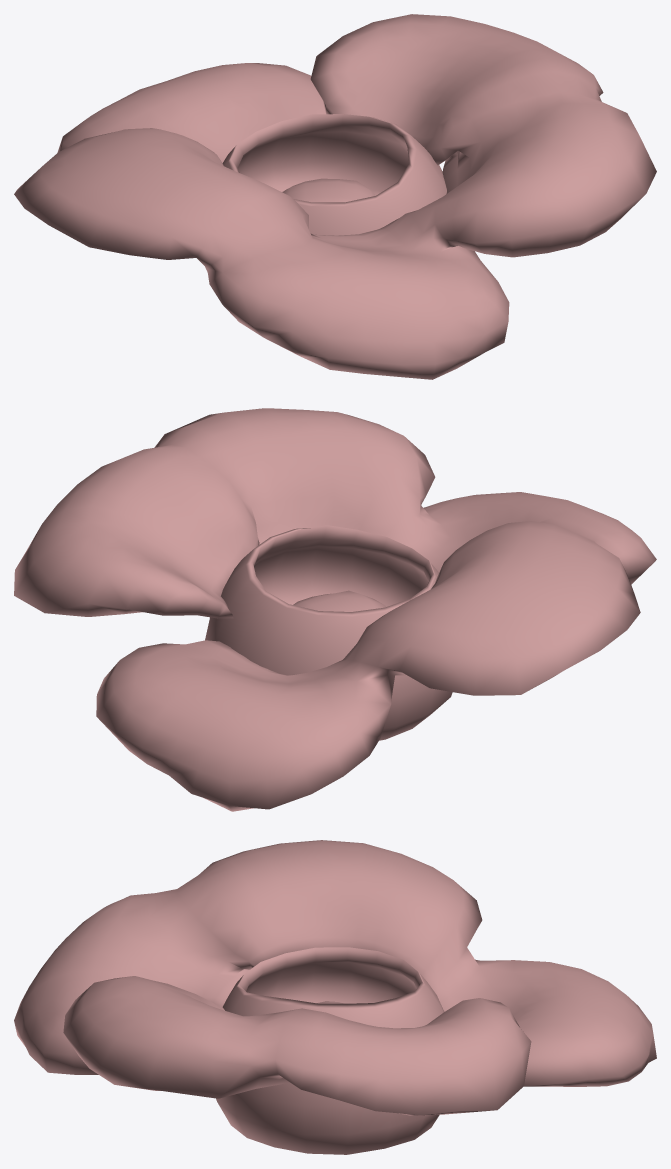
Rendered from Rafflesia.fbx.
3 renders of one model, top to bottom at view 1: azimuth 30°, elevation 25°; view 2: azimuth 150°, elevation 25°; view 3: azimuth 270°, elevation 25°, orthographic. The views are drawn at different scales.
Visible parts, largest first — view 1: Rafflesia4; view 2: Rafflesia4; view 3: Rafflesia4.
Boxes of the visible parts, x1,y1,x2,y2 form: Rafflesia4: (14,14,656,379); Rafflesia4: (14,408,656,811); Rafflesia4: (14,840,656,1154).
Size of the model in its own units: 0.4439 by 0.1509 by 0.4695.
